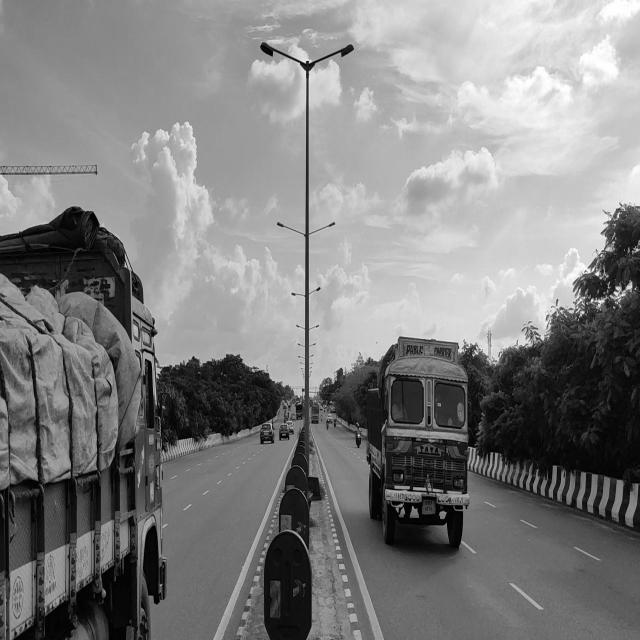truck: (0, 207, 167, 640), (367, 339, 472, 556)
